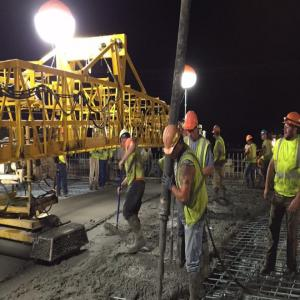blue: (261, 130, 268, 141)
red: (163, 126, 185, 159), (184, 111, 201, 142), (284, 112, 300, 142), (214, 125, 222, 139), (247, 134, 254, 146)
white: (119, 128, 131, 149)
